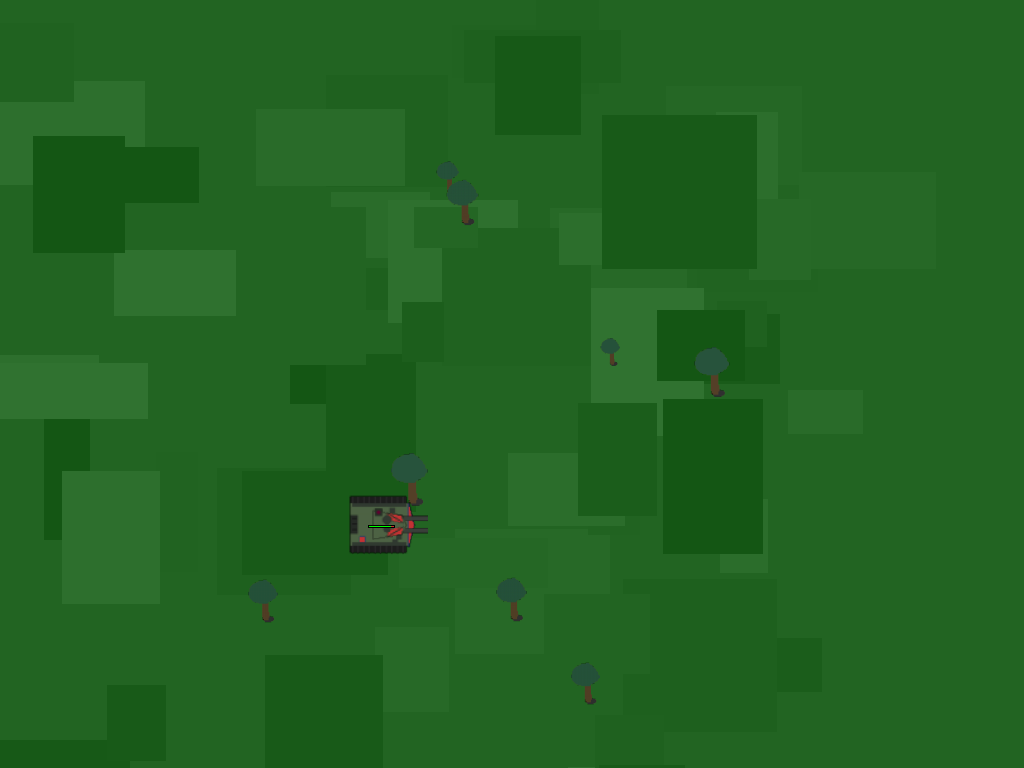MiningRig: (349, 492, 412, 555)
